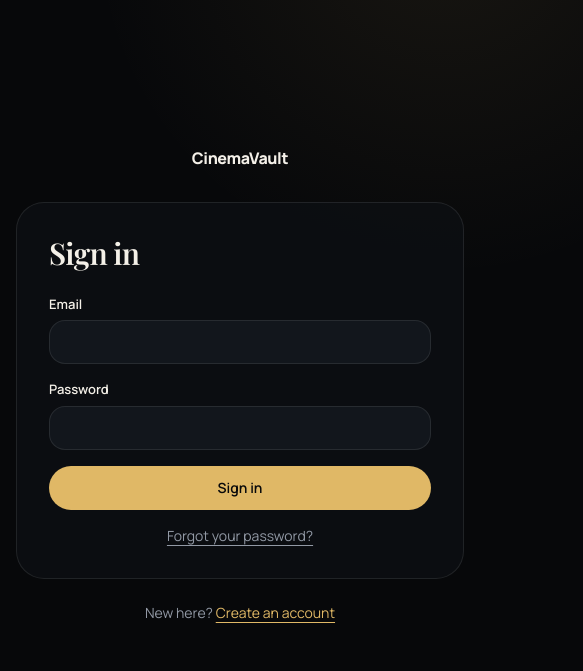
sign in › an unknown email gets exactly the same message as a wrong password
Check: the heading "Sign in" is shown, box x1=49 y1=232 x2=139 y2=272
Type "nobody@example.com" into the field labelled "Email" at point(240, 342), box x1=49 y1=320 x2=431 y2=364
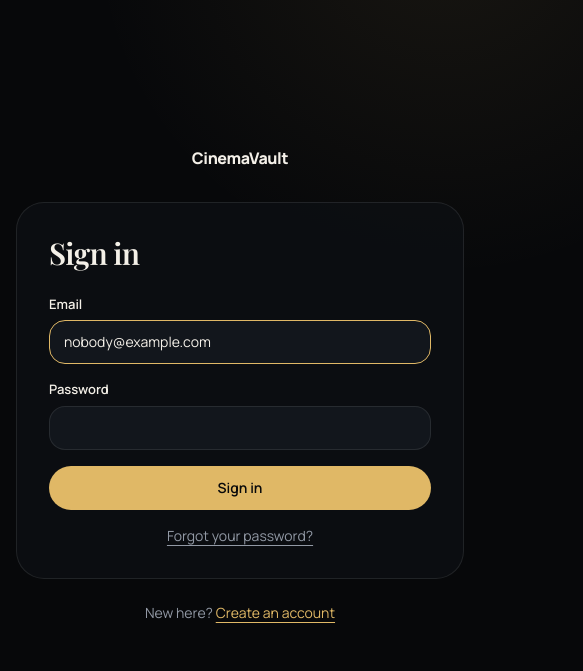
Type "whatever1" into the password field labelled "Password" at point(240, 428), box x1=49 y1=406 x2=431 y2=450
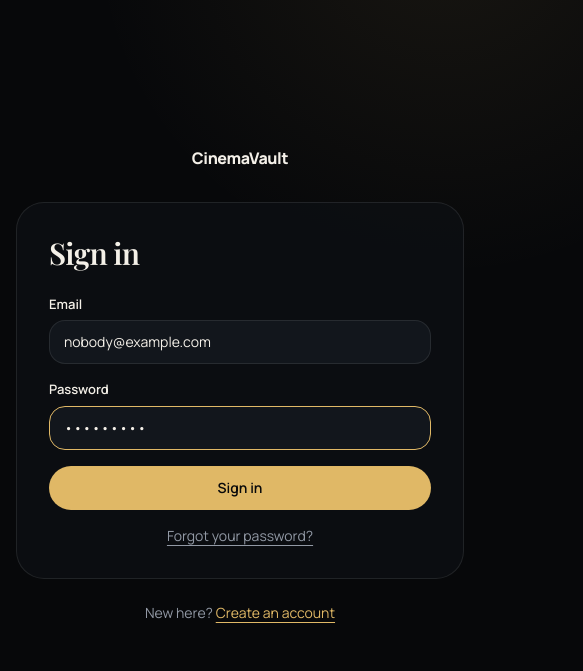
Click the button "Sign in" at point(240, 488), box x1=49 y1=466 x2=431 y2=510
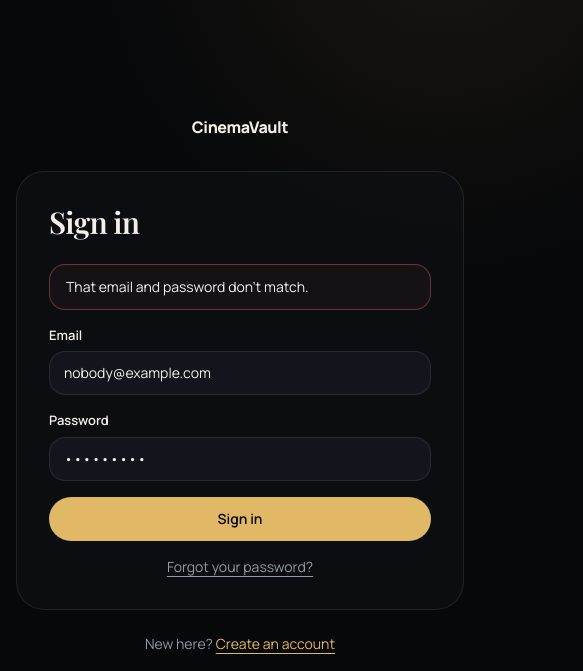
Check: the message reads "That email and password don’t match.", box x1=66 y1=276 x2=309 y2=296
